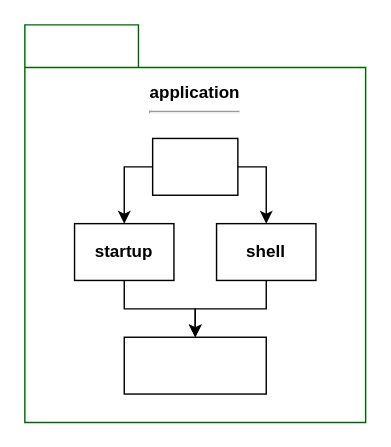
This 391x447 diagram has some shape labels left out. Each missing label, with the centre of its shape:
"configuration" goes at point (194, 365).
"main" goes at point (194, 166).
